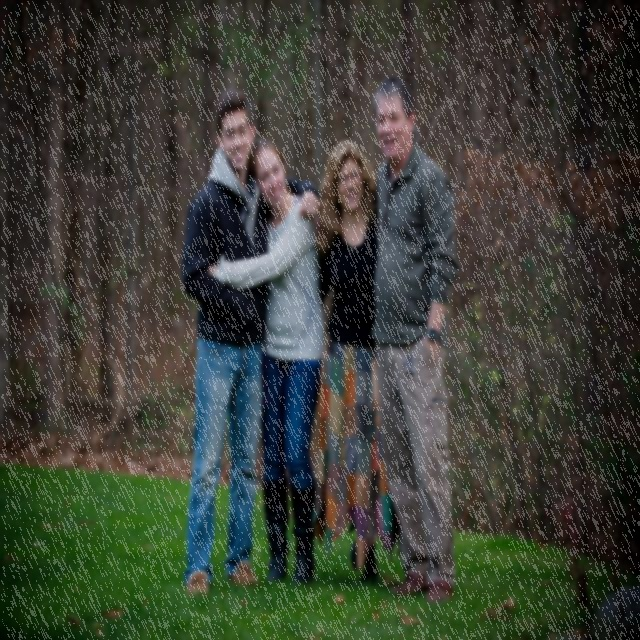pessoa: (177, 84, 319, 600), (208, 134, 322, 587), (370, 76, 460, 604), (308, 136, 398, 590)
